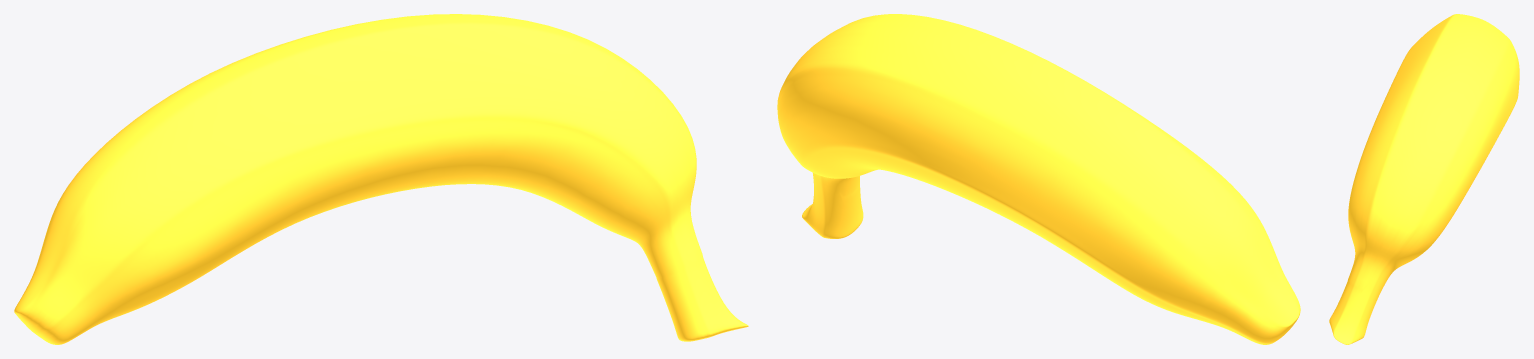
File: banana.glb
3 renders of one model, left to right at view 1: azimuth 30°, elevation 25°; view 2: azimuth 150°, elevation 25°; view 3: azimuth 270°, elevation 25°, orthographic. The views are drawn at different scales.
Parts seen in each view (by area): view 1: Mesh_0; view 2: Mesh_0; view 3: Mesh_0.
Part boxes in pixels (x1,y1,x2,y2): Mesh_0: (14, 14, 748, 344); Mesh_0: (777, 14, 1300, 344); Mesh_0: (1329, 14, 1519, 344).
Size of the model in its own units: 8.87 by 4.29 by 3.5.
